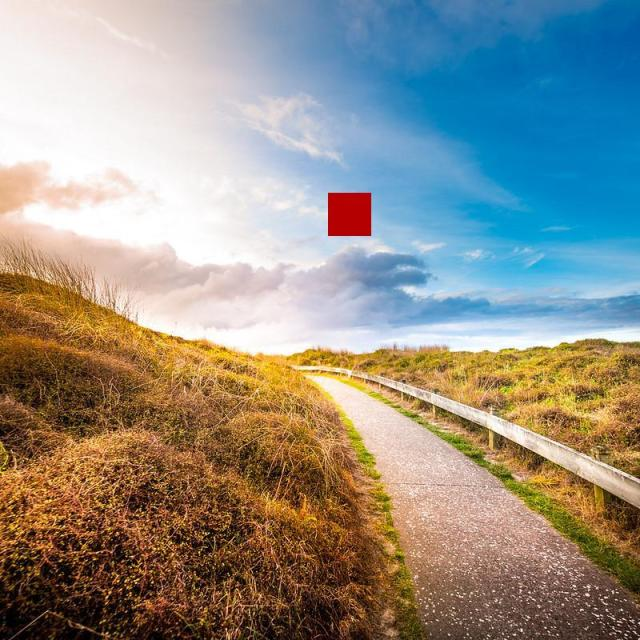RedSquare: (322, 188, 378, 241)
